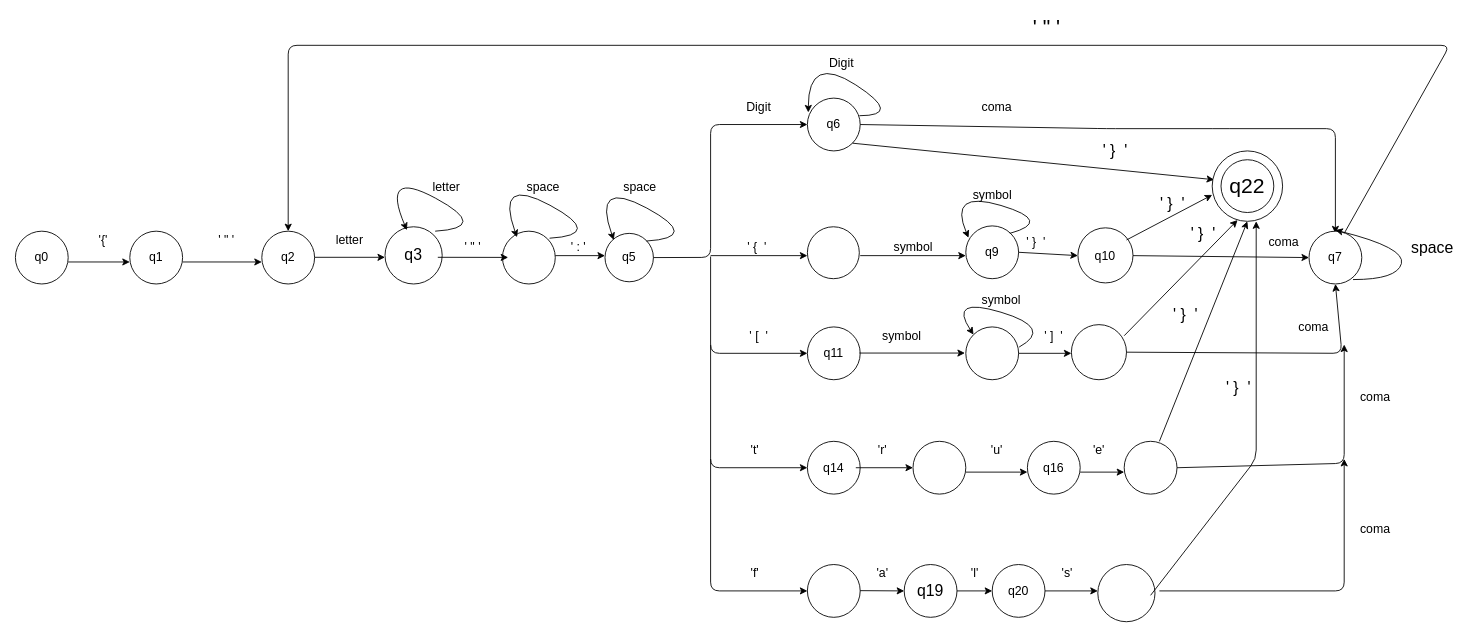
Image size: 1474x637. Some labels were removed from this diagram. Each missing label, with the centre of its shape:
"q12" belongs at (x=992, y=353).
"q13" belongs at (x=1098, y=352).
"q15" belongs at (x=939, y=467).
"q17" belongs at (x=1150, y=467).
"q18" belongs at (x=833, y=590).
"q21" belongs at (x=1126, y=593).
"q4" belongs at (x=528, y=257).
"q8" belongs at (x=833, y=252).
